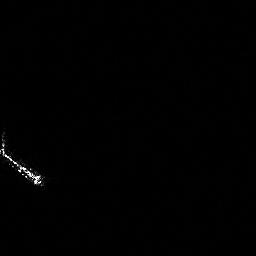ship: (1, 146, 42, 184)
